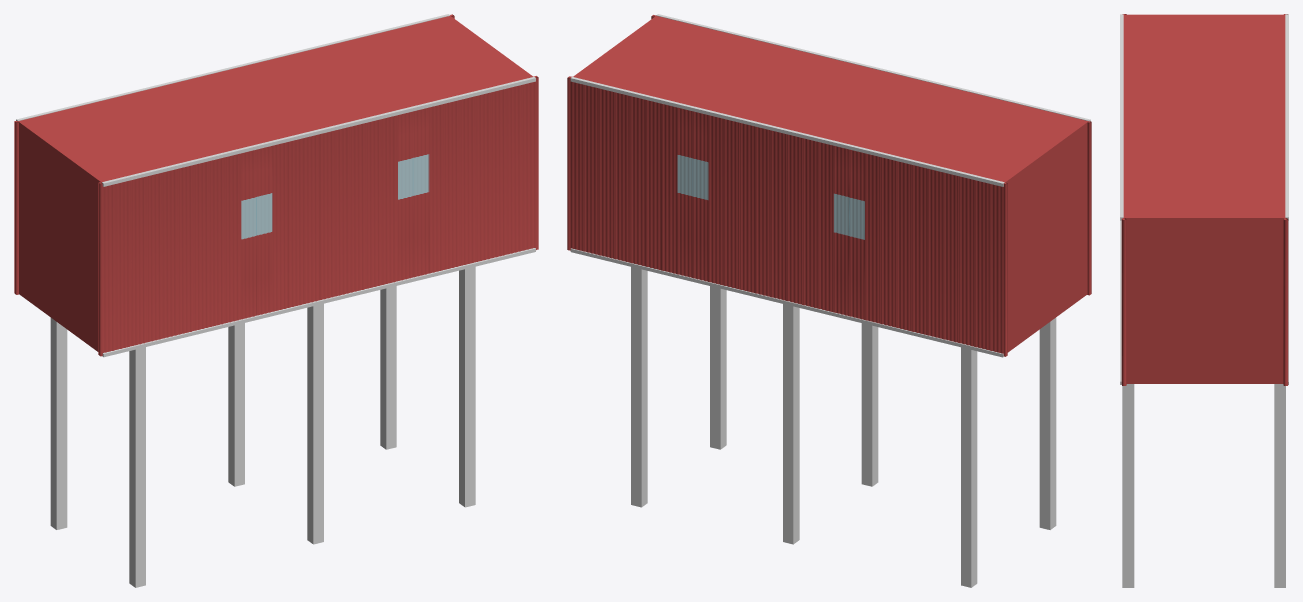
File: ShippingContainer.fbx
The picture shows the model from 3 angles, left to right: view 1: azimuth 30°, elevation 25°; view 2: azimuth 150°, elevation 25°; view 3: azimuth 270°, elevation 25°; orthographic projection. The views are drawn at different scales.
Parts seen in each view (by area): view 1: wall.001, Cube, Cube.009, Cube.008, Cube.010, Cube.007, Cube.005, Cube.006, Cube.002, Cube.003, Cube.001, wall; view 2: wall, Cube, Cube.006, Cube.007, Cube.005, Cube.010, Cube.008, Cube.009, Cube.001, Cube.004, Cube.002, wall.001; view 3: Cube, Cube.009, Cube.006, wall.001, wall, Cube.002, Cube.001, Cube.003.
Boxes of the visible parts, x1,y1,x2,y2 form: wall.001: (98,76,538,356); Cube: (17,16,533,351); Cube.009: (459,266,475,507); Cube.008: (307,303,323,544); Cube.010: (129,347,145,587); Cube.007: (50,317,67,529); Cube.005: (228,323,244,486); Cube.006: (380,286,396,449); Cube.002: (102,77,535,186); Cube.003: (102,248,535,357); Cube.001: (16,14,450,121); wall: (14,14,454,294); wall: (567,76,1007,356); Cube: (573,16,1088,352); Cube.006: (631,267,647,507); Cube.007: (961,347,977,587); Cube.005: (783,304,799,544); Cube.010: (1039,317,1056,529); Cube.008: (861,323,878,486); Cube.009: (710,286,726,449); Cube.001: (570,77,1004,186); Cube.004: (570,248,1003,357); Cube.002: (656,14,1090,121); wall.001: (651,15,1091,295); Cube: (1123,14,1286,383); Cube.009: (1122,384,1134,587); Cube.006: (1274,384,1285,587); wall.001: (1121,14,1126,385); wall: (1283,14,1288,385); Cube.002: (1120,14,1123,220); Cube.001: (1285,14,1288,220); Cube.003: (1120,220,1121,384).
Bounding box in the file's own units: 4157 × 3746 × 1438.
